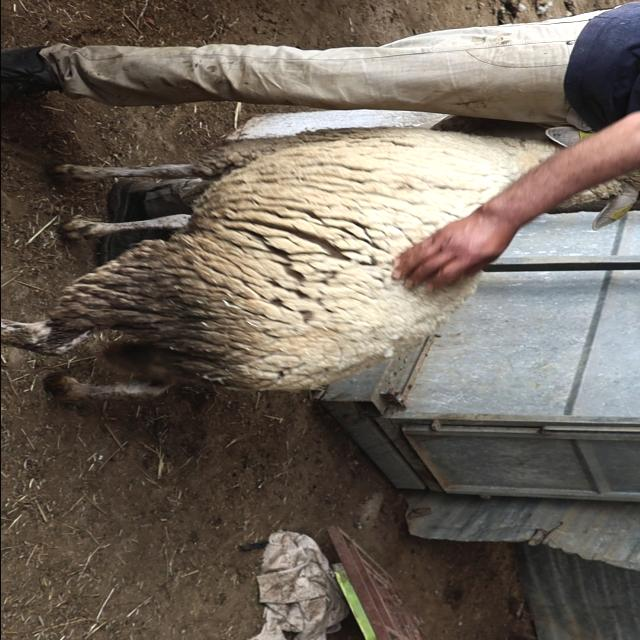Score_4: (1, 127, 559, 400)
